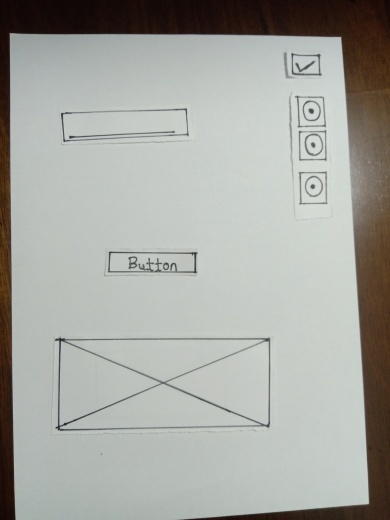button: (104, 249, 200, 275)
checkbox: (287, 50, 319, 75)
img: (58, 337, 270, 424)
radio: (295, 93, 325, 128), (297, 171, 327, 206), (297, 131, 327, 166)
text: (58, 108, 189, 137)
